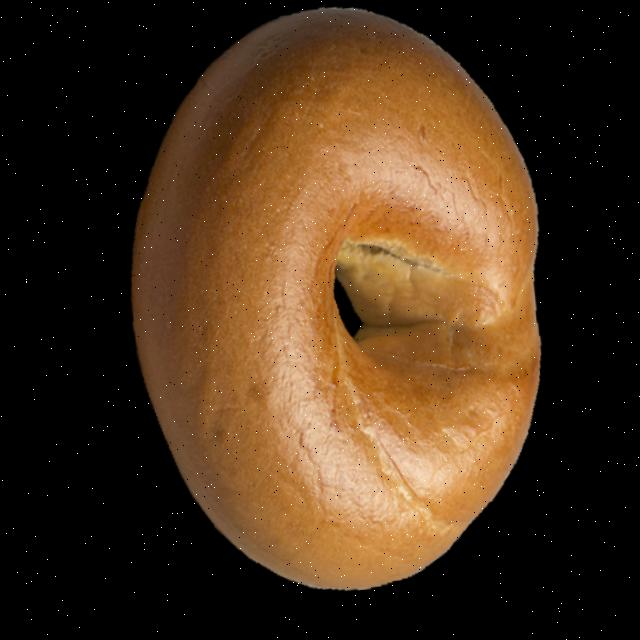Bagel: (128, 14, 535, 594)
